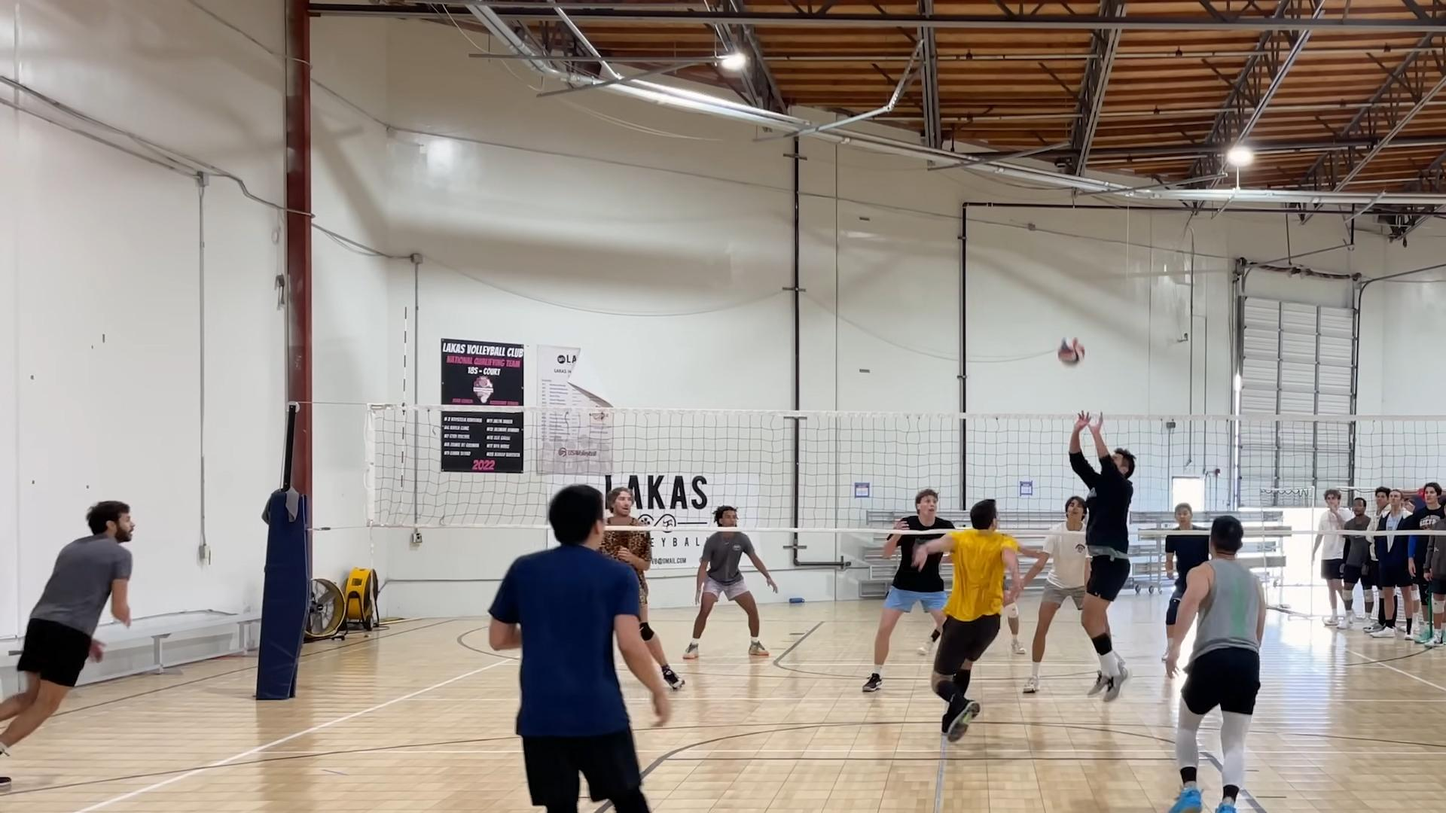Player: (489, 486, 669, 812), (0, 501, 134, 755), (1166, 516, 1267, 812), (914, 499, 1021, 741), (862, 489, 954, 692), (601, 488, 684, 690), (683, 505, 776, 659), (1021, 496, 1089, 693), (1165, 533, 1209, 638)
Set: (1067, 411, 1134, 701)
ball: (1057, 335, 1085, 364)
